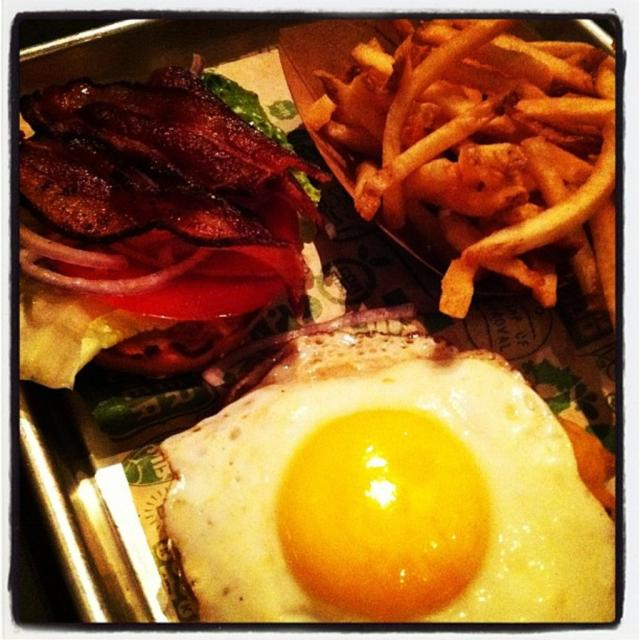Egg: (156, 333, 619, 622)
